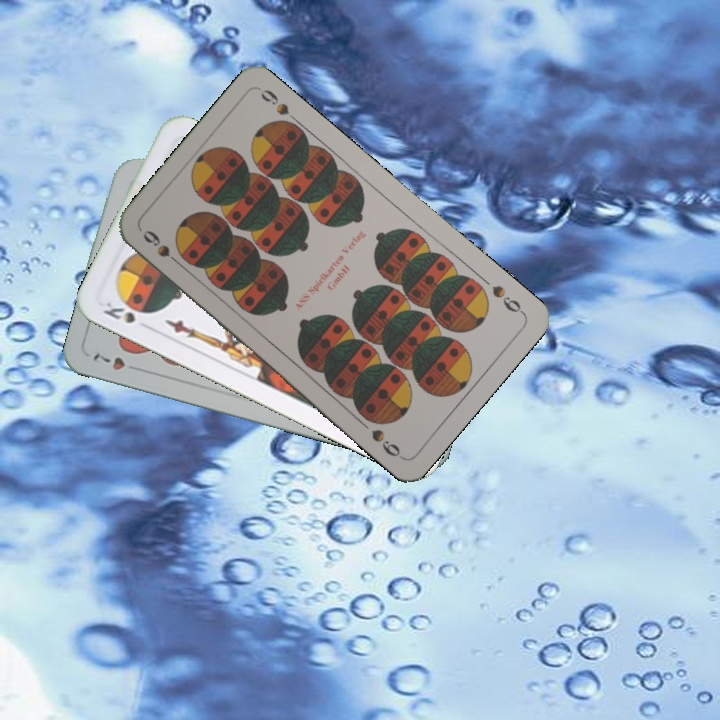H7: (89, 349, 144, 375)
S9: (138, 225, 186, 271), (487, 281, 527, 317)
SK: (99, 297, 138, 326)
